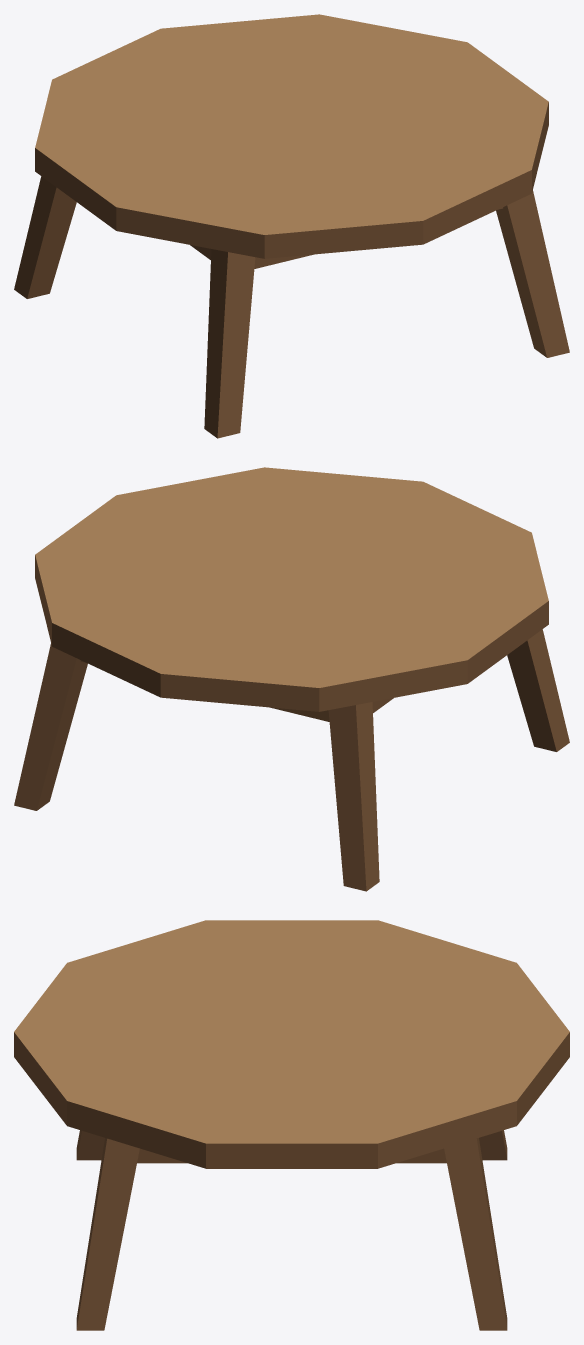
File: sakura_prop_table_low.glb
3 views of the same model, one above another, from view 1: azimuth 30°, elevation 25°; view 2: azimuth 150°, elevation 25°; view 3: azimuth 270°, elevation 25° (orthographic). The views are drawn at different scales.
Parts seen in each view (by area): view 1: sakura_prop_table_low; view 2: sakura_prop_table_low; view 3: sakura_prop_table_low.
Boxes of the visible parts, x1=… form: sakura_prop_table_low: x1=14, y1=14, x2=569, y2=438; sakura_prop_table_low: x1=14, y1=467, x2=569, y2=891; sakura_prop_table_low: x1=14, y1=920, x2=569, y2=1330.
Bounding box in the file's own units: 0.913 × 0.396 × 0.96.
1 material, 1 textured.
